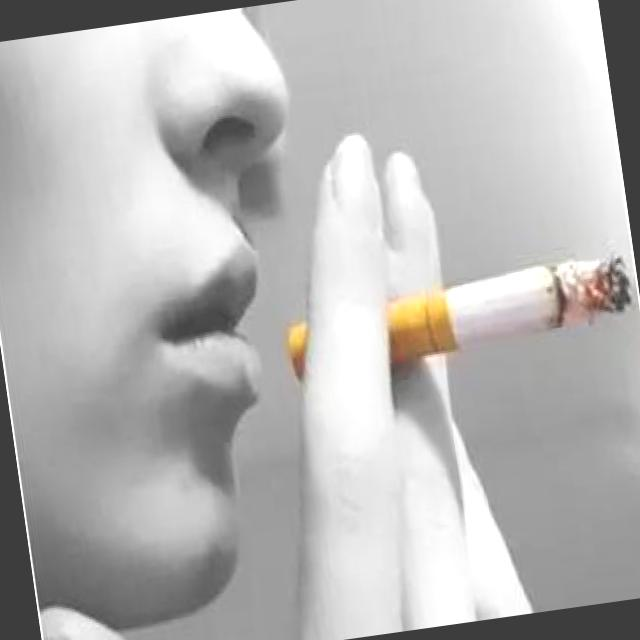cigarette: (447, 248, 632, 349)
